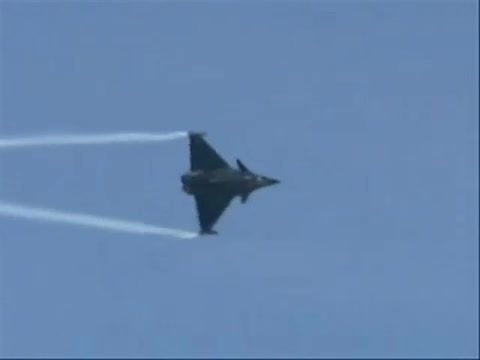aeroplane: (182, 128, 282, 235)
